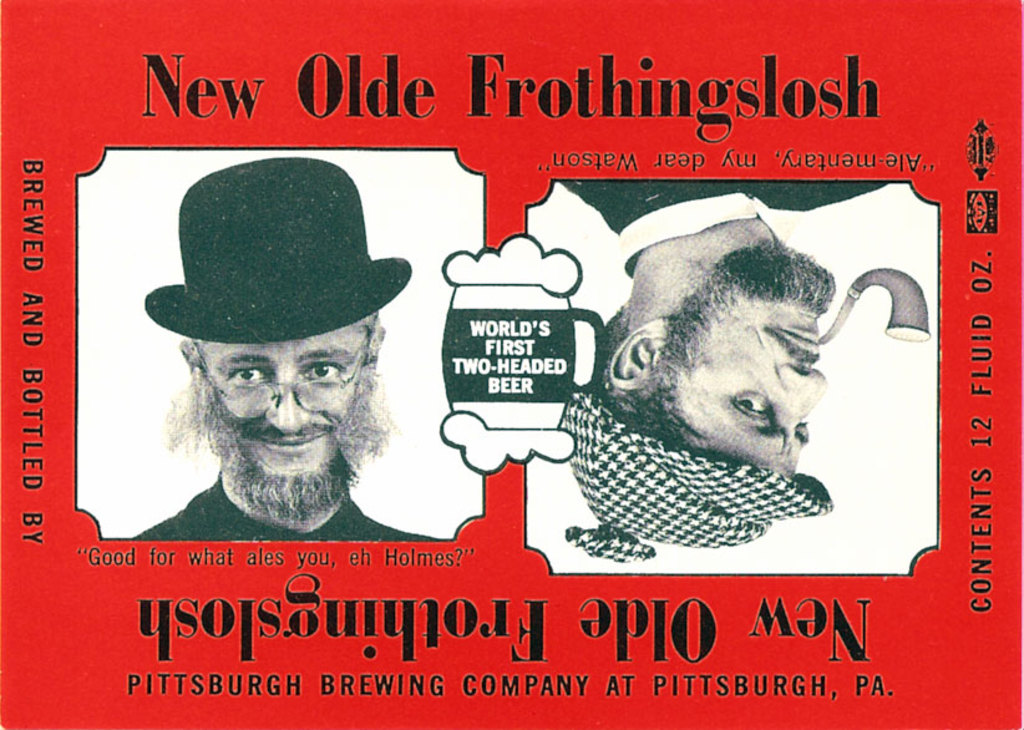Person: (557, 180, 932, 563), (143, 155, 453, 541)
